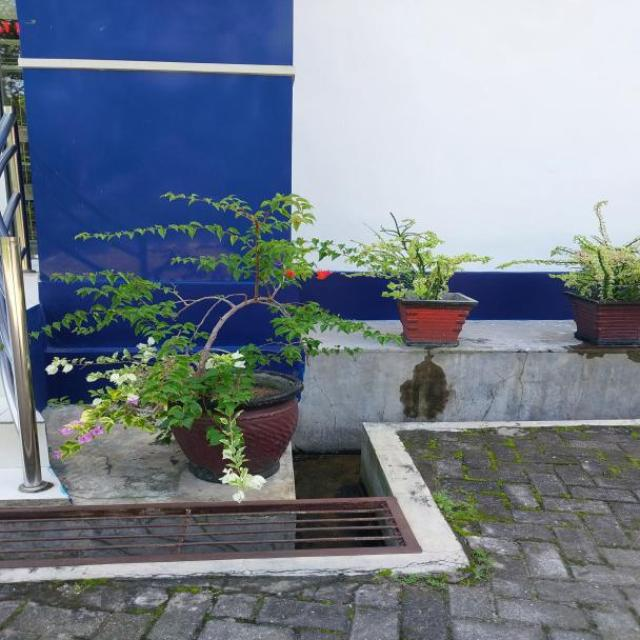plant ahead at: (39, 192, 316, 485), (337, 204, 484, 345), (546, 188, 640, 352)
